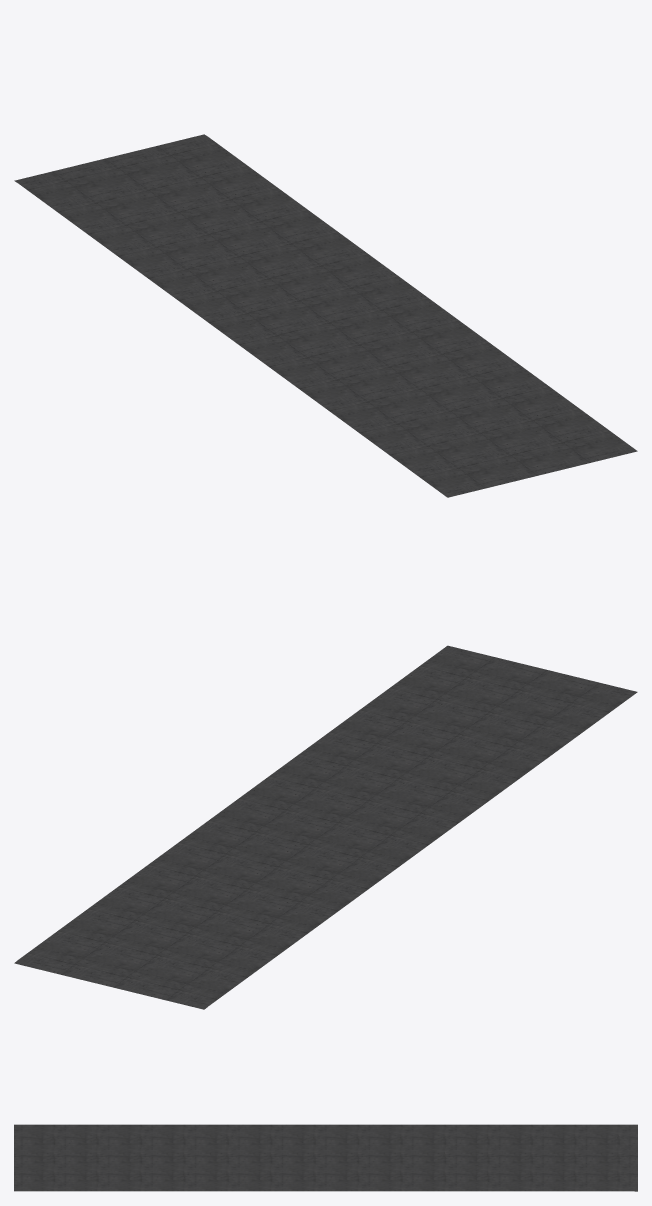
The model's file is KIN_ST00_UD.glb.
The picture shows the model from 3 angles, top to bottom: view 1: azimuth 30°, elevation 25°; view 2: azimuth 150°, elevation 25°; view 3: azimuth 270°, elevation 25°; orthographic projection. The views are drawn at different scales.
Visible parts, largest first — view 1: RAIL; view 2: RAIL; view 3: RAIL.
Part boxes in pixels (bbox=[...]): RAIL: bbox=[14, 134, 637, 497]; RAIL: bbox=[14, 645, 637, 1009]; RAIL: bbox=[14, 1124, 637, 1191].
Size of the model in its own units: 25.6 by 15.44 by 101.
Materials: 1 (1 with a texture image).
